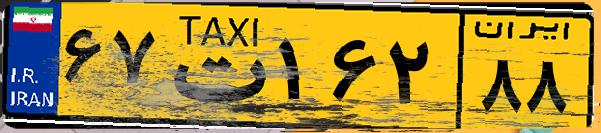1: (270, 28, 330, 110)
2: (385, 28, 445, 110)
6: (330, 28, 385, 110), (57, 26, 110, 100)
7: (110, 28, 158, 98)
8: (475, 38, 525, 113), (525, 38, 570, 115)
ت: (158, 12, 270, 120)
